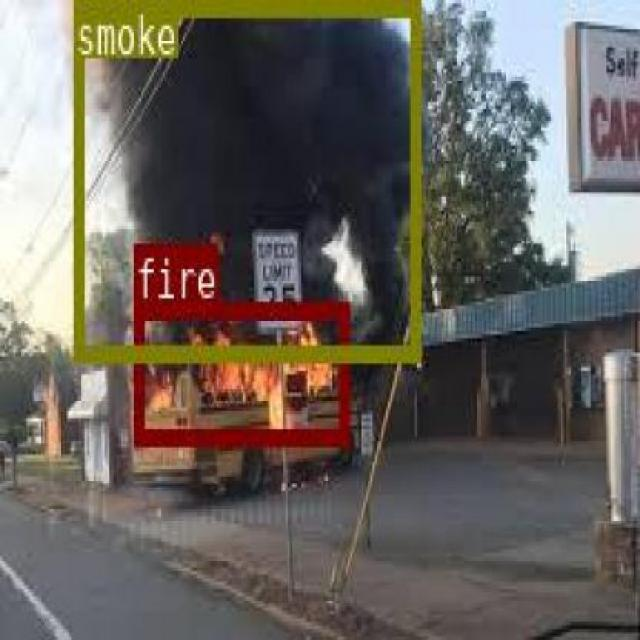Fire: (133, 300, 347, 442)
Smoke: (72, 0, 418, 357)
